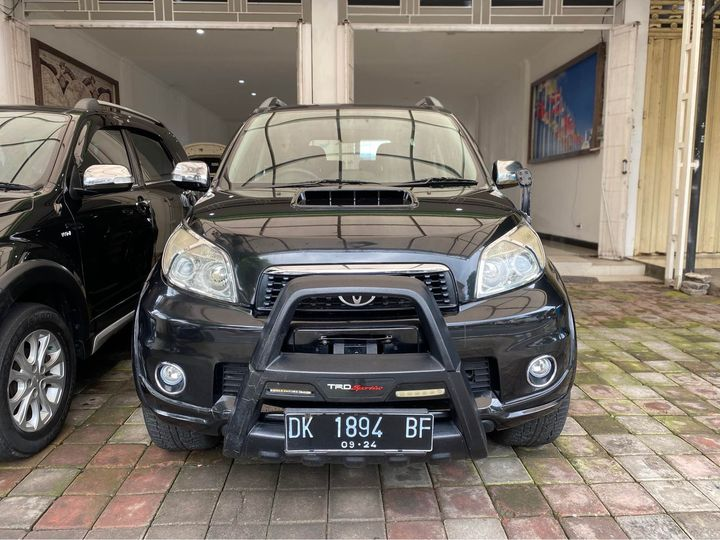plate: (282, 409, 438, 455)
